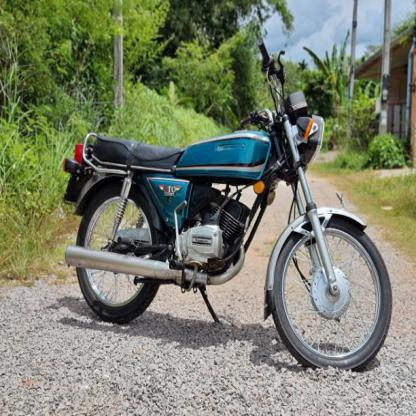Motorcycle: (55, 49, 395, 382)
